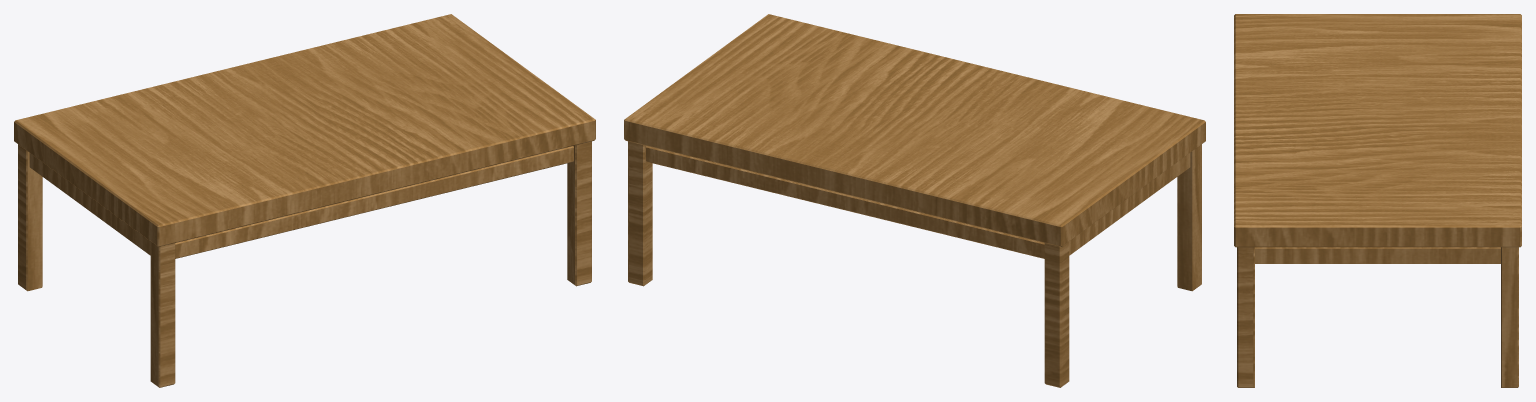
File: Table01.fbx
3 renders of one model, left to right at view 1: azimuth 30°, elevation 25°; view 2: azimuth 150°, elevation 25°; view 3: azimuth 270°, elevation 25°, orthographic.
Visible parts, largest first — view 1: Table01_Baked; view 2: Table01_Baked; view 3: Table01_Baked.
Part boxes in pixels (left/top/right/bottom): Table01_Baked: left=14, top=14, right=595, bottom=387; Table01_Baked: left=624, top=14, right=1205, bottom=387; Table01_Baked: left=1234, top=14, right=1521, bottom=387.
Bounding box in the file's own units: 4 × 7 × 2.51.
1 material, 1 textured.
